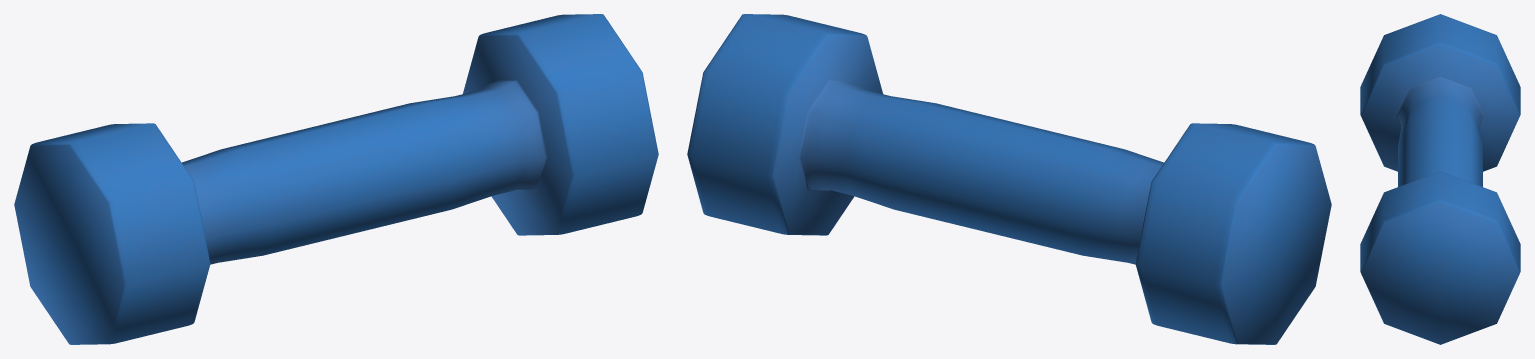
File: gym_dumbbelllight_01.glb
The picture shows the model from 3 angles, left to right: view 1: azimuth 30°, elevation 25°; view 2: azimuth 150°, elevation 25°; view 3: azimuth 270°, elevation 25°; orthographic projection. The views are drawn at different scales.
Parts seen in each view (by area): view 1: dumbell; view 2: dumbell; view 3: dumbell.
Boxes of the visible parts, x1,y1,x2,y2 form: dumbell: [14, 14, 658, 344]; dumbell: [687, 14, 1331, 344]; dumbell: [1360, 14, 1520, 344].
Bounding box in the file's own units: 5.61 × 2.03 × 2.03.
Materials: 1 (1 with a texture image).
